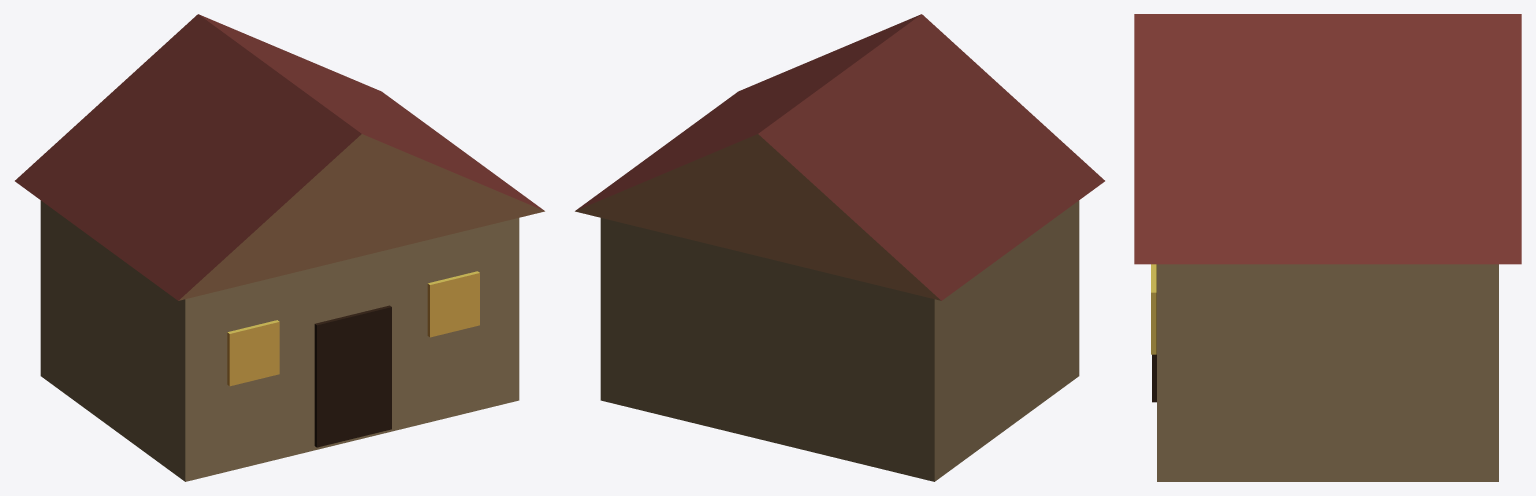
File: house.glb
The picture shows the model from 3 angles, left to right: view 1: azimuth 30°, elevation 25°; view 2: azimuth 150°, elevation 25°; view 3: azimuth 270°, elevation 25°; orthographic projection. The views are drawn at different scales.
Visible parts, largest first — view 1: scenery; view 2: scenery; view 3: scenery.
Part boxes in pixels (x1,y1,x2,y2): scenery: (15,14,544,481); scenery: (575,14,1104,481); scenery: (1134,14,1521,481).
Size of what is drawn, in the model's own units: 4.4 by 3.6 by 3.4.
